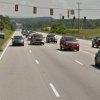Car: (28, 27, 81, 54)
